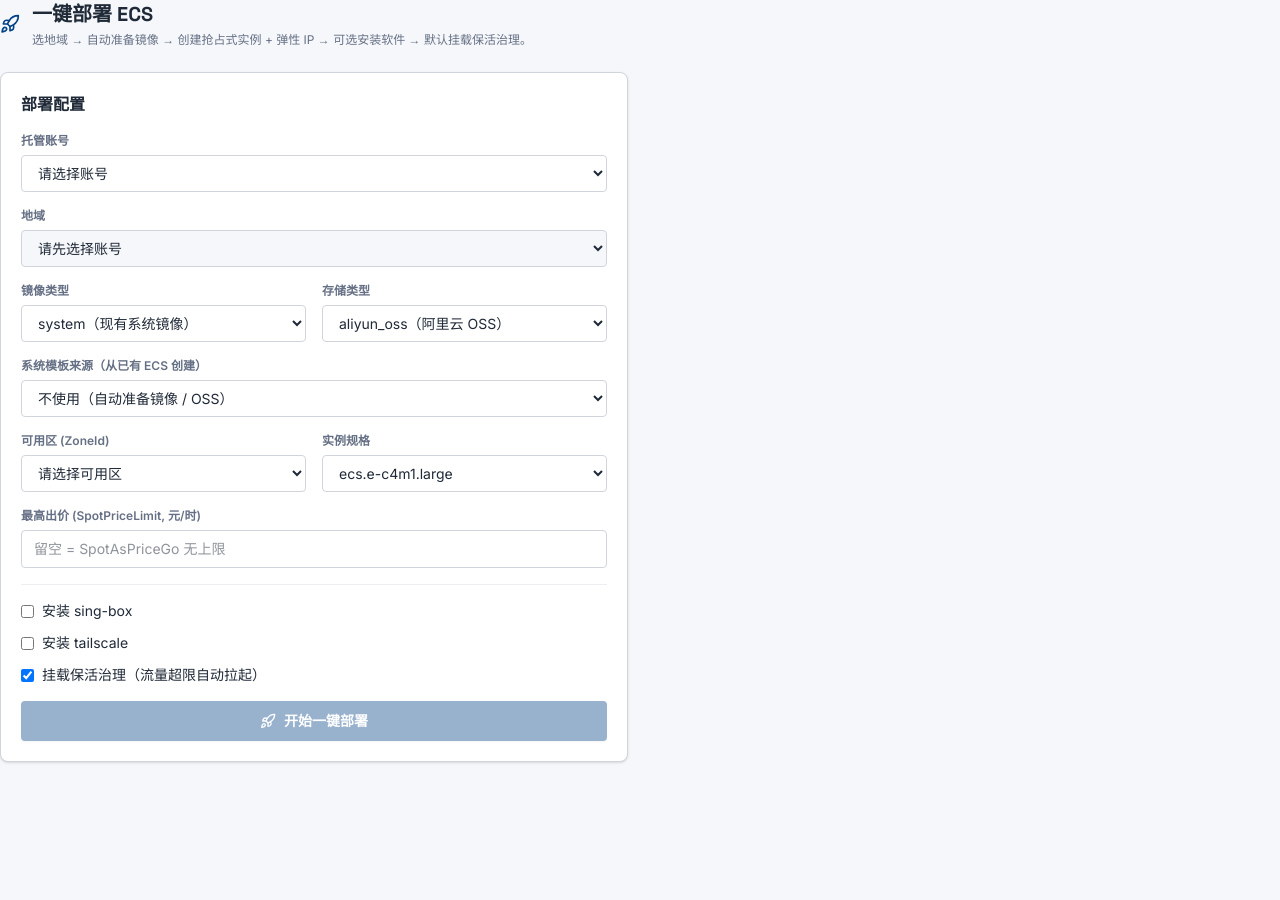
Scenario: DeploymentPage form › renders awaiting_user installer progress with VNC guidance and continue button that resumes job
This screenshot has width=1280, height=900.
Select "Account A" in the dropdown labelled "托管账号". click: x=314, y=174
box: [21,155,607,192]
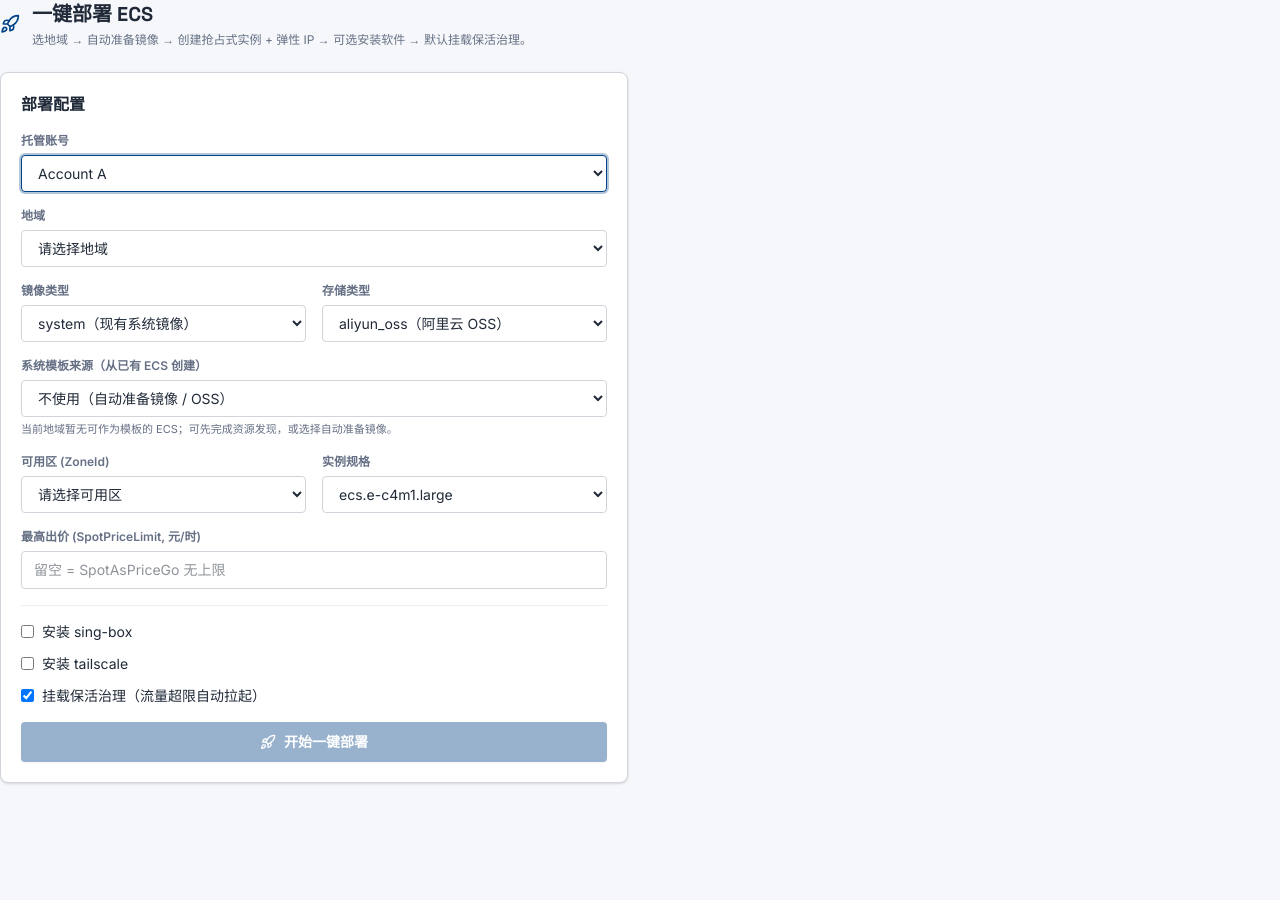
Select "美国 (硅谷) (us-west-1)" in the dropdown labelled "地域". click: x=314, y=248
box: [21,230,607,267]
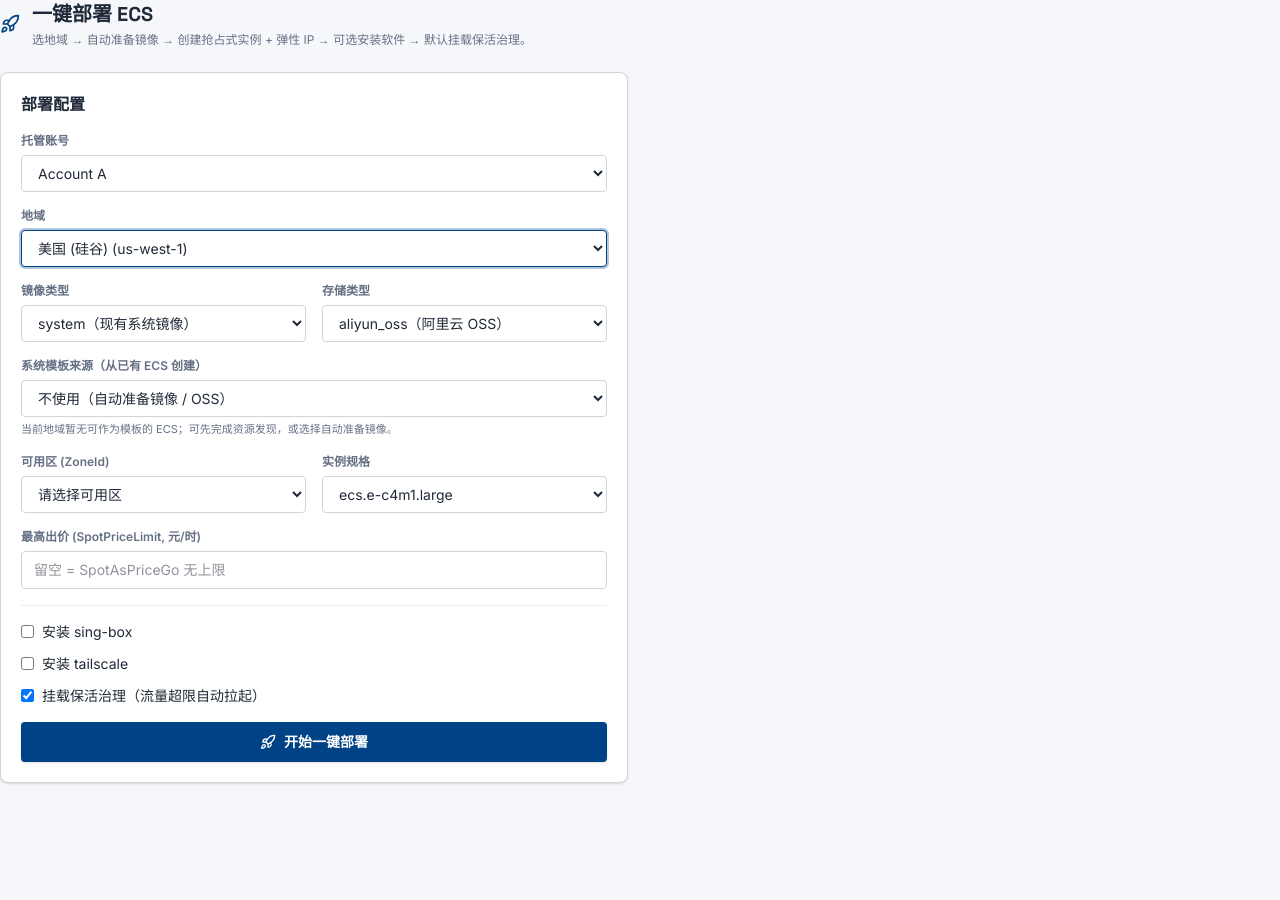
Click the button "开始一键部署". click: x=314, y=742
box: [21,722,607,762]
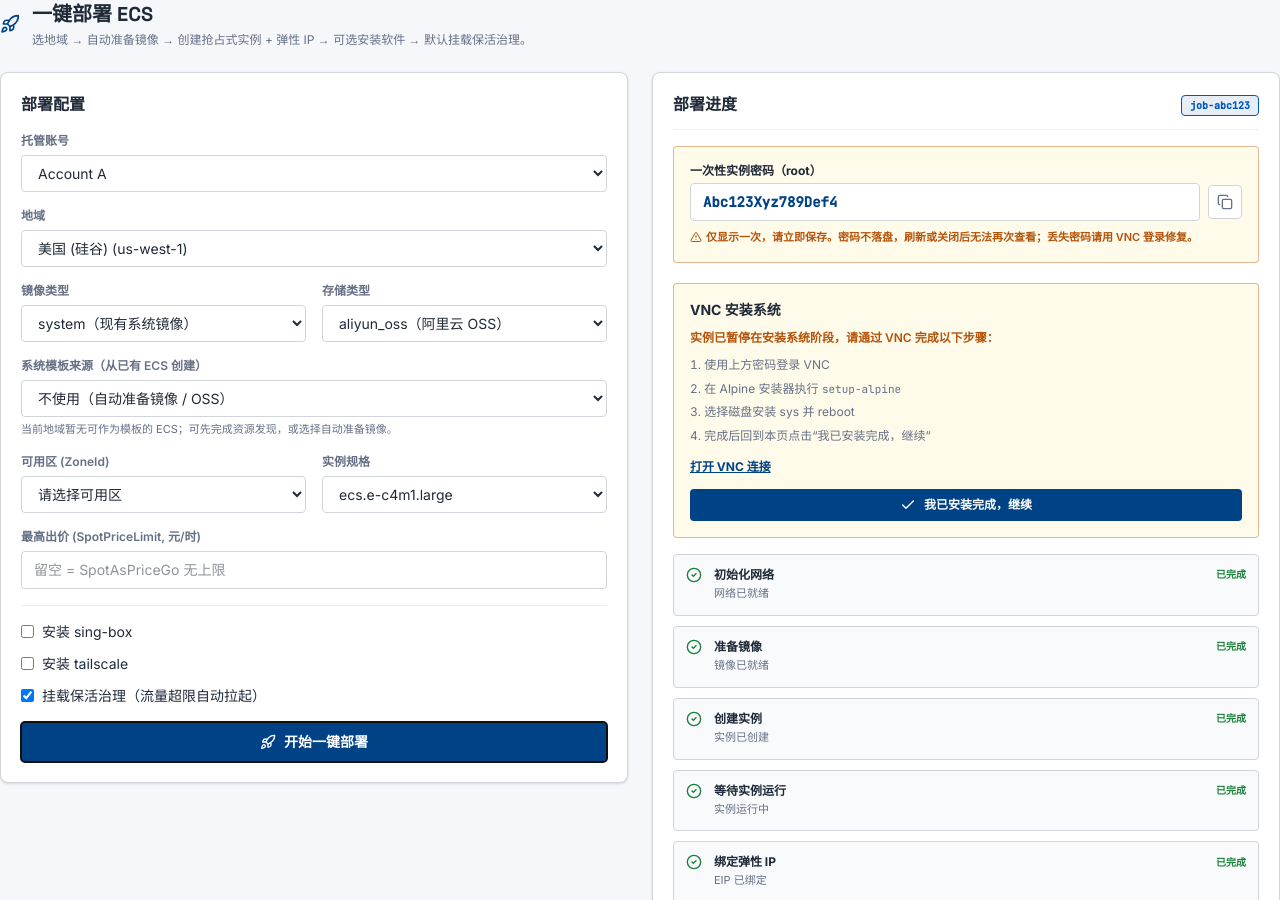
Expected: the text "VNC 安装系统" is shown, [690,300,781,318]
Expected: the text "仅显示一次，请立即保存。密码不落盘，刷新或关闭后无法再次查看；丢失密码请用 VNC 登录修复。" is shown, [706,229,1198,246]
Expected: the text "setup-alpine" is shown, [822,382,901,396]
Click the button "我已安装完成，继续". click: x=966, y=505
box: [690,489,1242,521]
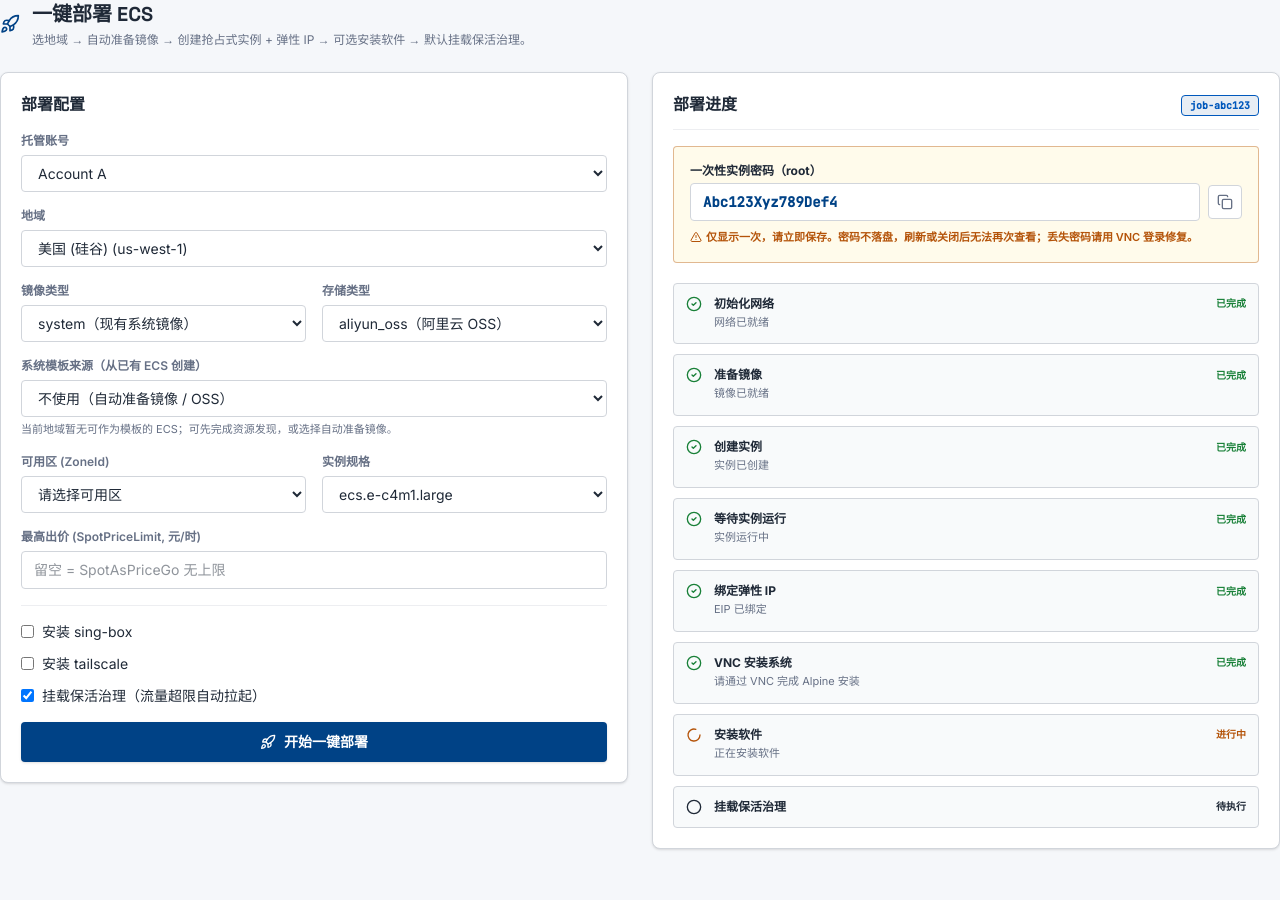
Expected: the text "进行中" is shown, [1216,727,1246,742]
Expected: the list item "我已安装完成，继续" is gone
